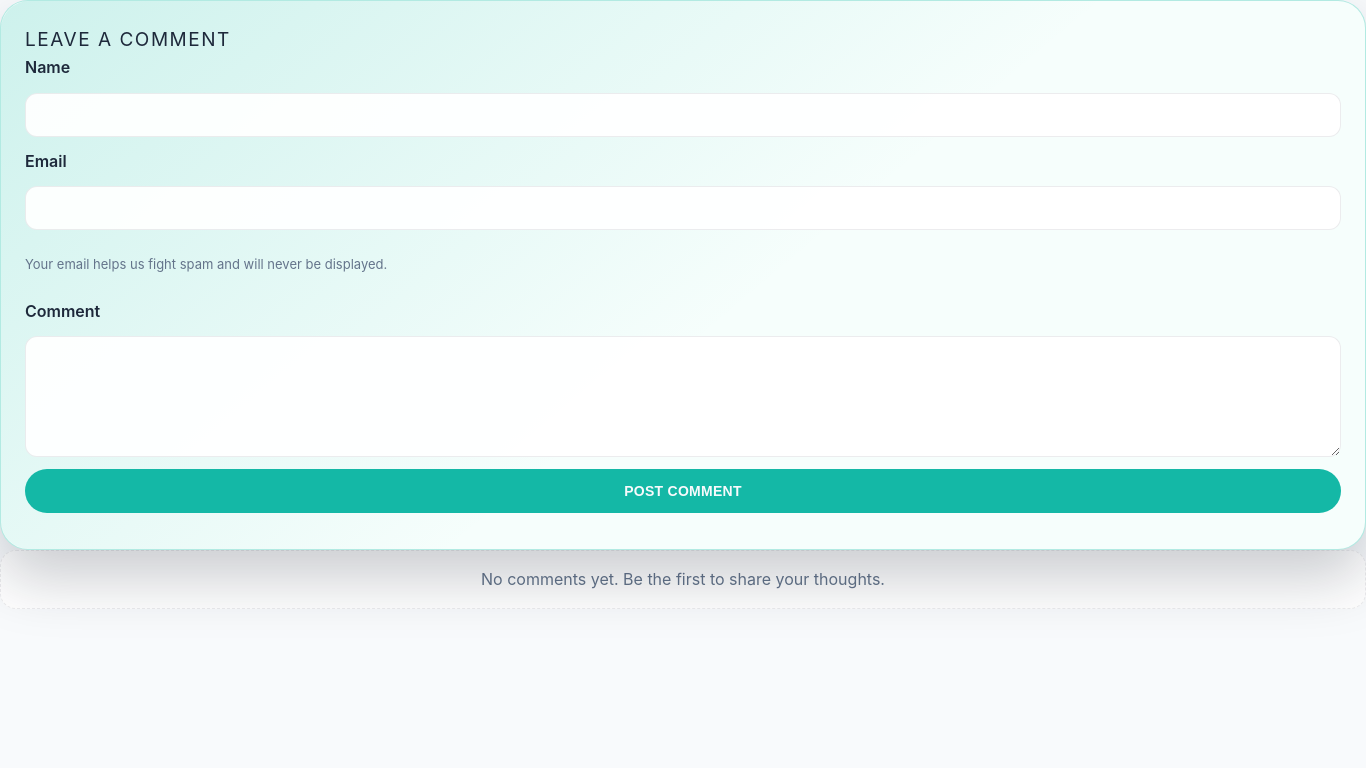
it: Comment form and list › shows optimistic updates while a comment submission is in flight
The image size is (1366, 768).
Expected: the text "No comments yet. Be the first to share your thoughts." is shown, top-left (0, 550), bottom-right (1365, 609)
Type "Test User" into the field labelled "Name".
click(683, 115); type("Test User")  # box top-left (25, 93), bottom-right (1341, 137)
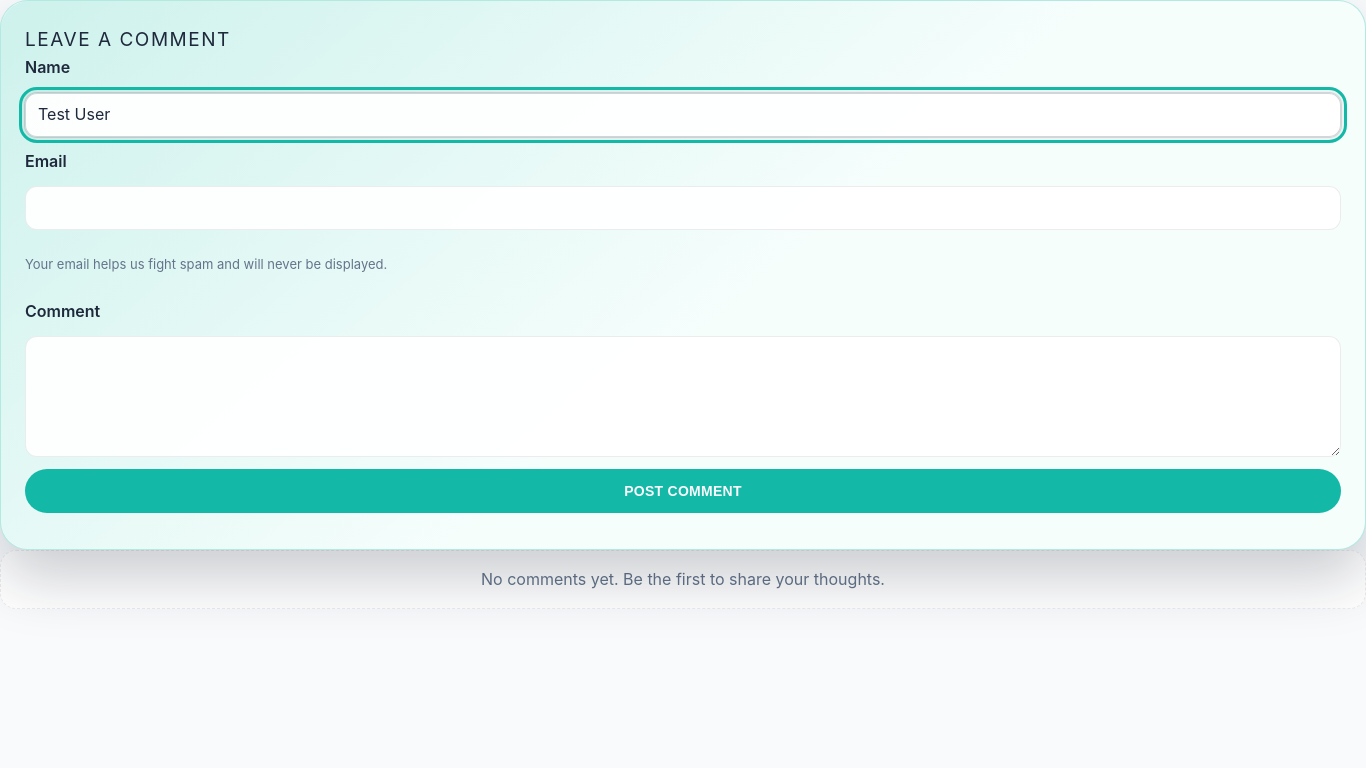
Type "test@example.com" into the field labelled "Email".
click(683, 208); type("test@example.com")  # box top-left (25, 186), bottom-right (1341, 230)
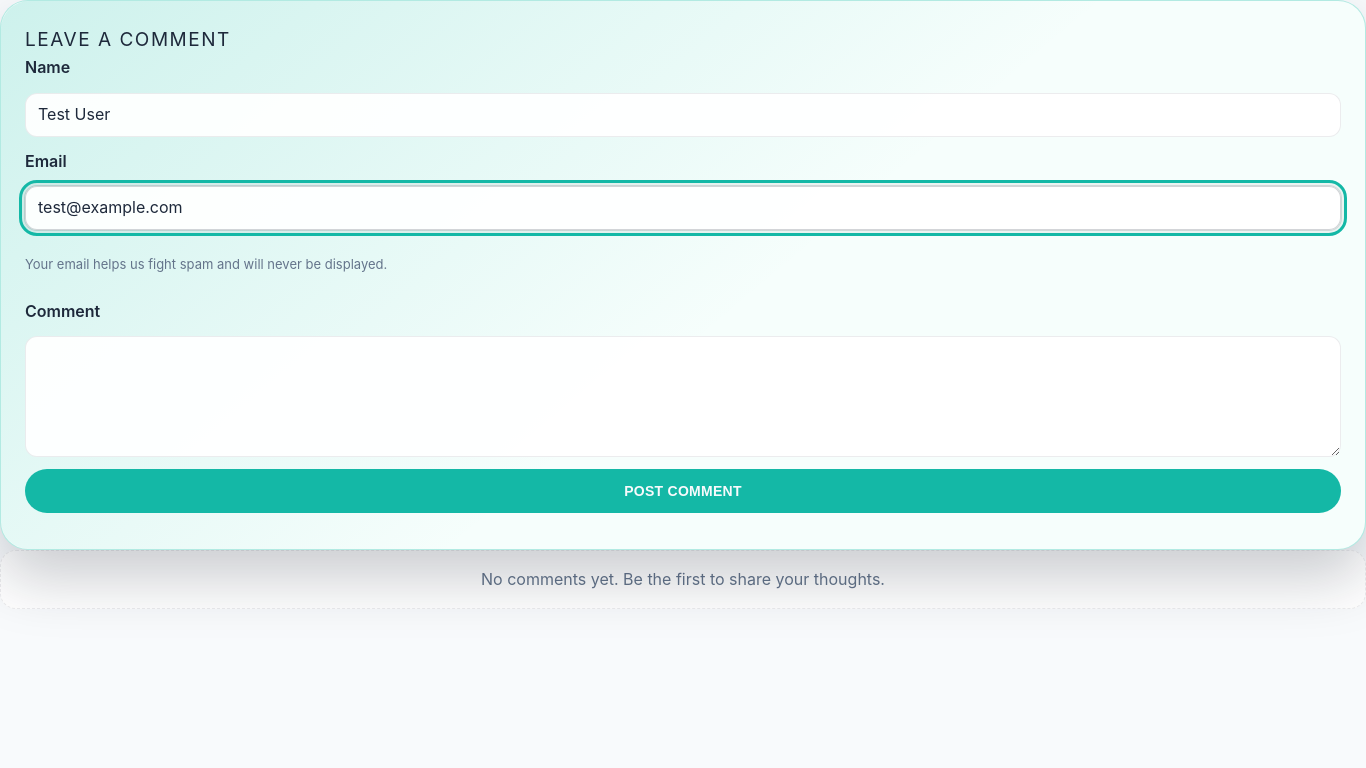
Type "This is excellent." into the text box labelled "Comment".
click(683, 396); type("This is excellent.")  # box top-left (25, 336), bottom-right (1341, 457)
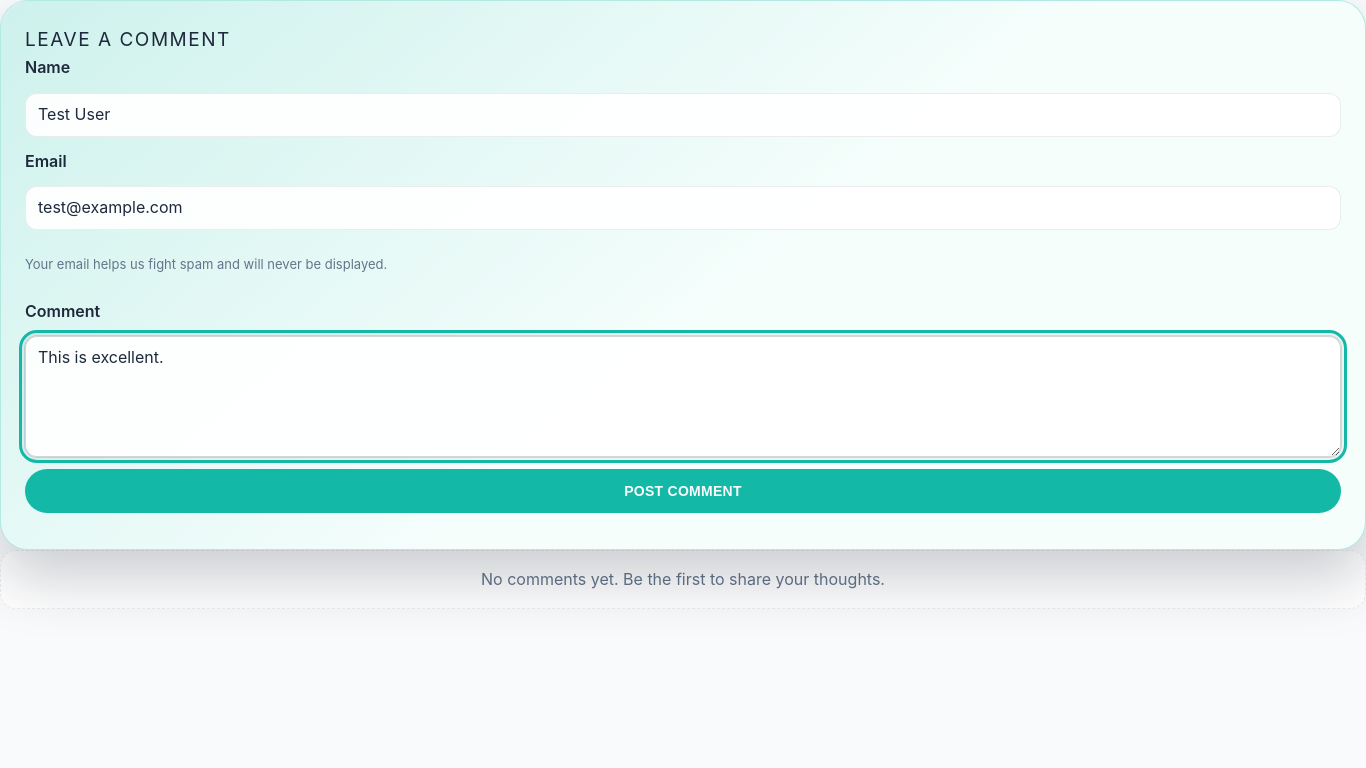
Click the button "Post comment".
click(683, 490)  # box top-left (25, 468), bottom-right (1341, 512)
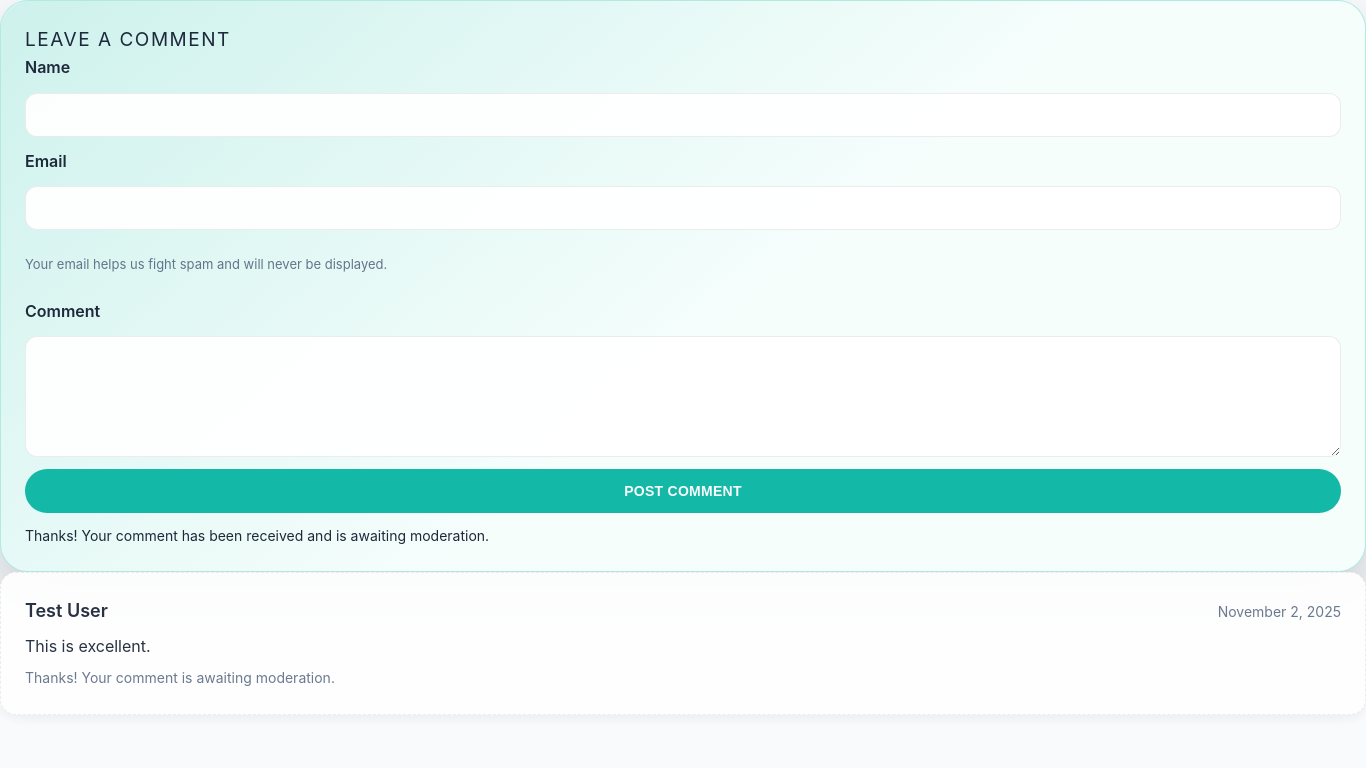
Expected: the text "Thanks! Your comment is awaiting moderation." is shown, top-left (25, 669), bottom-right (335, 686)
